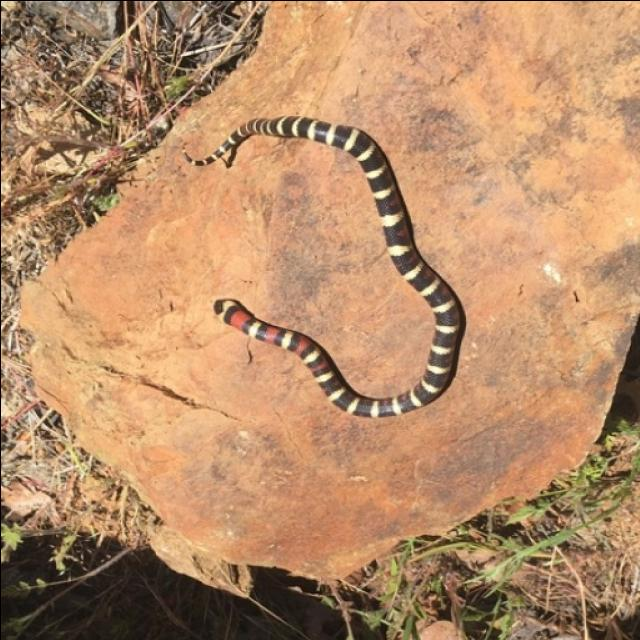snake: (161, 110, 461, 428)
